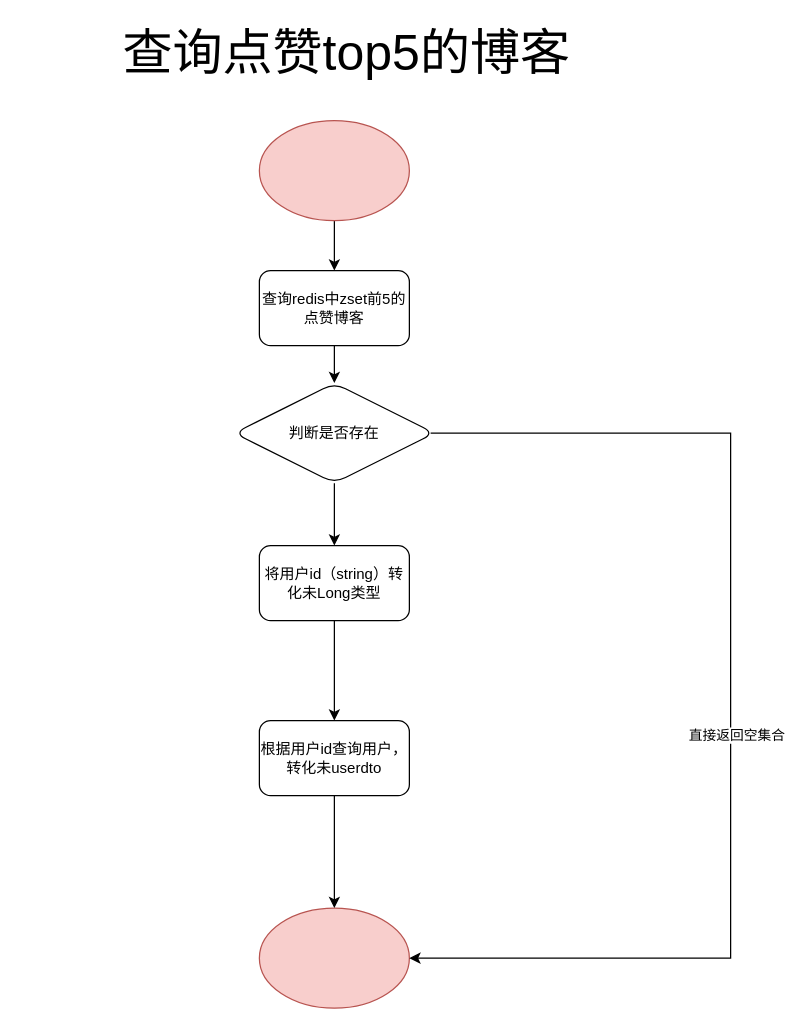
The diagram is 805 pixels wide and 1030 high, and some of its shapes have lost their labels. Here are the shapes that lost their labels. From the top down, the centre of each, then its label:
point (333, 170): k开始
point (333, 957): j结束
